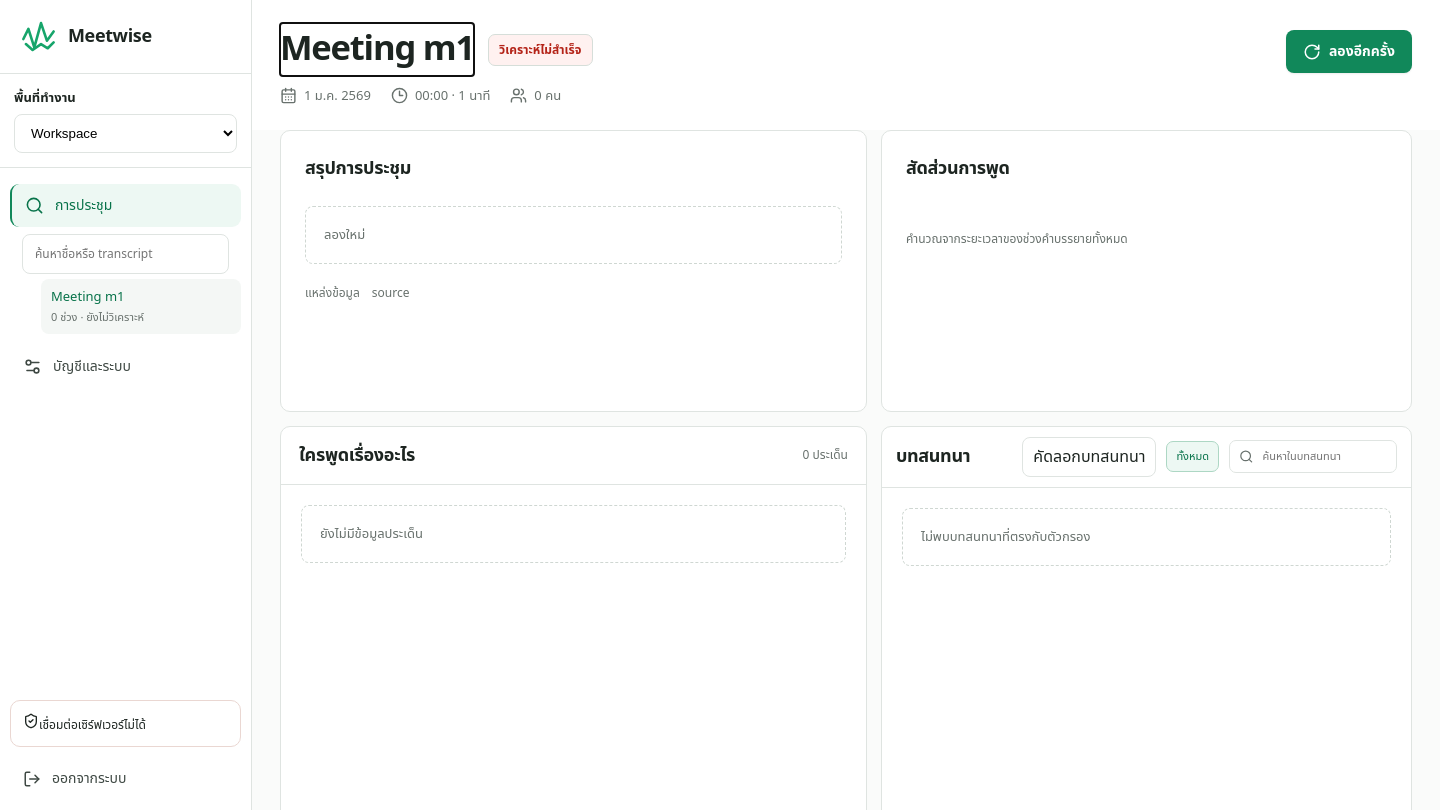
dashboard authentication and role-aware UI › moves a failed analysis through busy to the pending server state
This screenshot has width=1440, height=810.
Click the button "ลองอีกครั้ง" at (1349, 52), box [1286,30,1412,73]
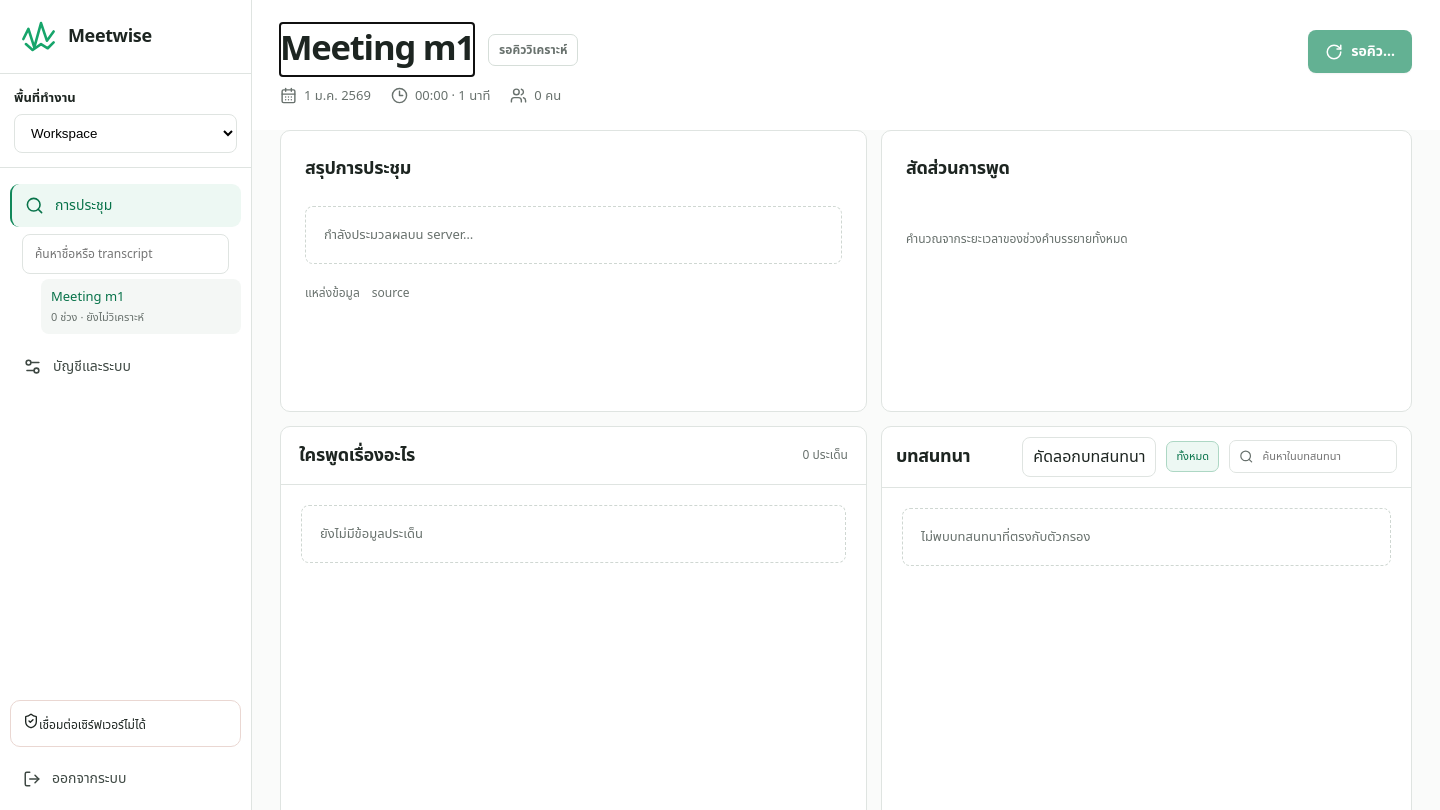
Check: the button named "กำลังวิเคราะห์…" is disabled, box [1308,30,1412,73]
Check: the text "รอคิววิเคราะห์" is shown, box [488,34,578,66]
Check: the button "รอคิว…" is disabled, box [1308,30,1412,73]
